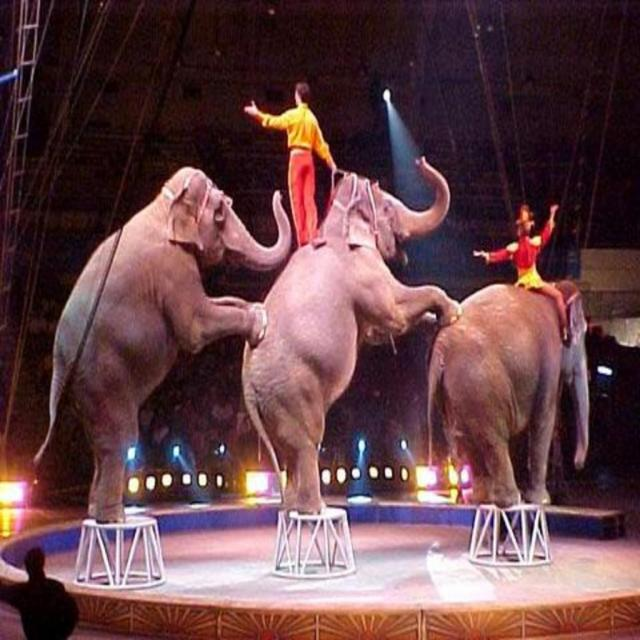elephant: (28, 168, 293, 531), (225, 168, 463, 534), (426, 282, 589, 510)
